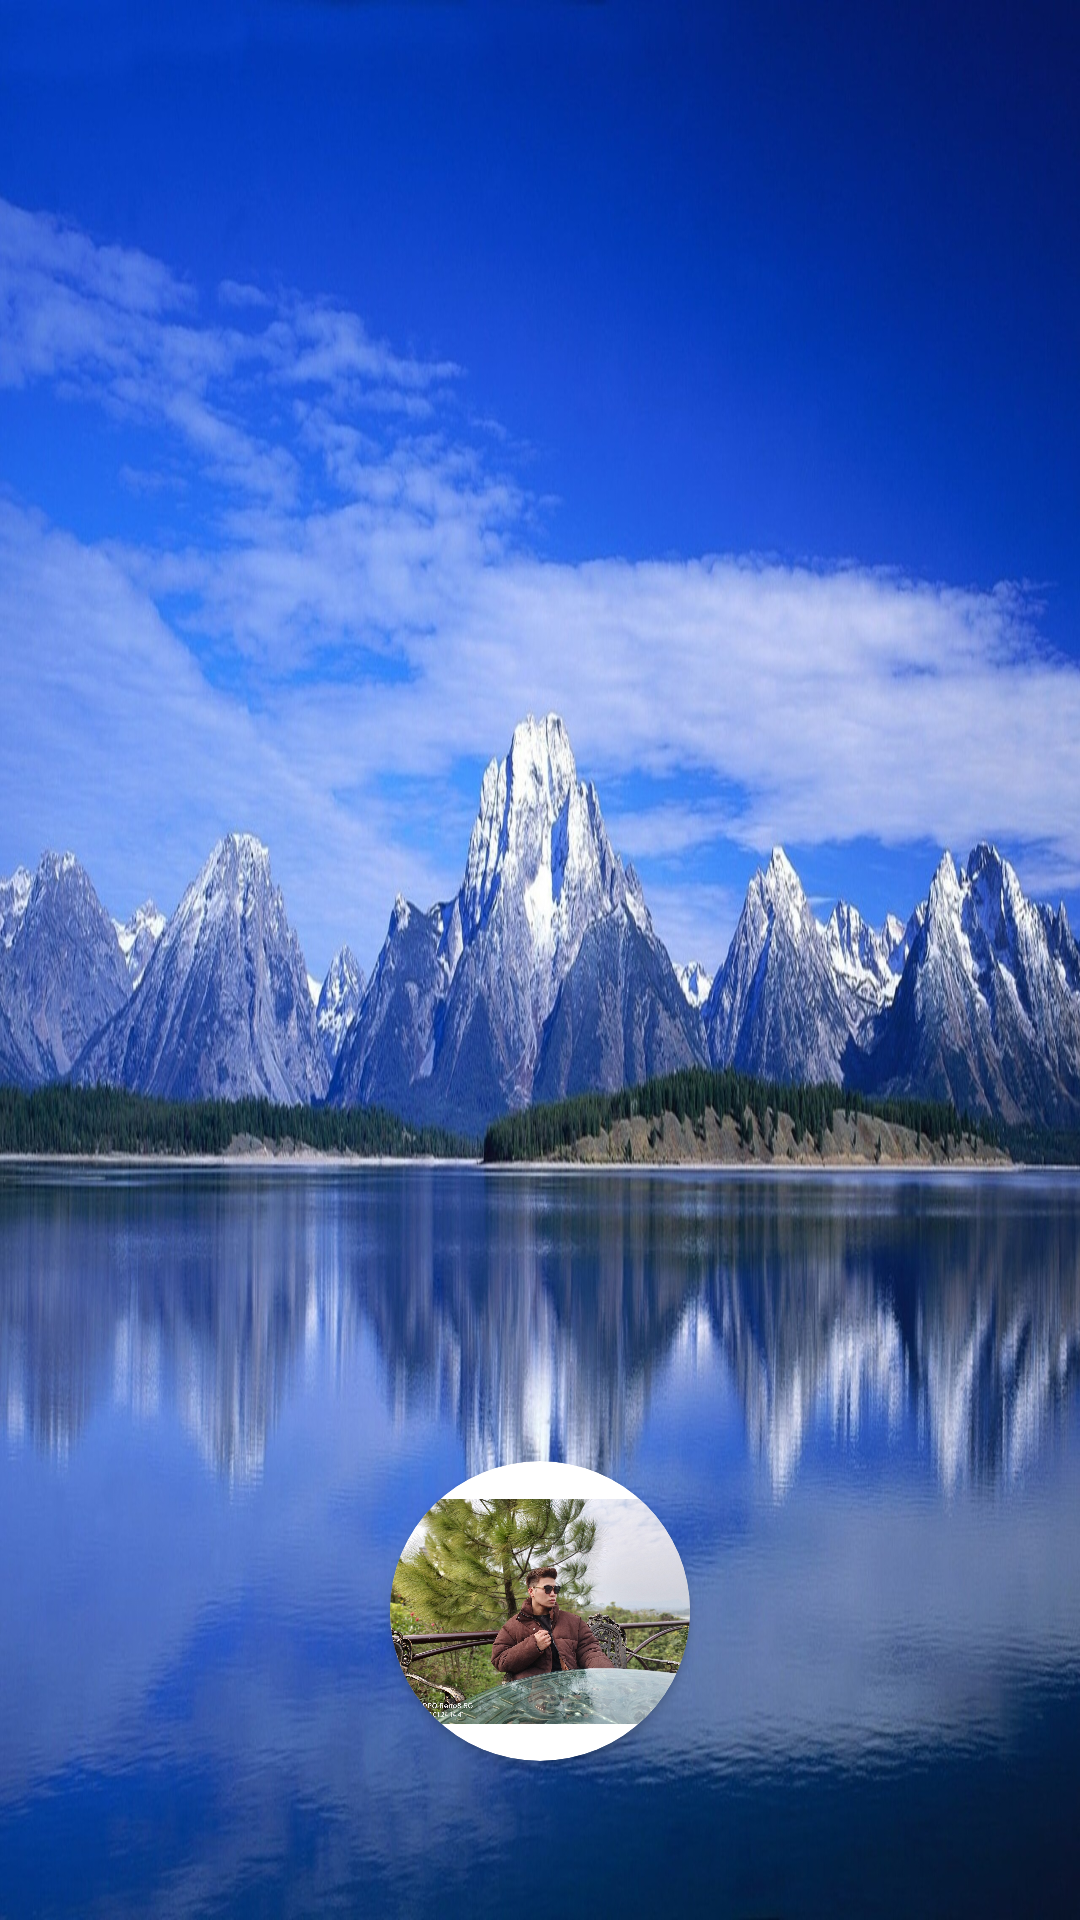

Point at icon controls on the screen. Image size 1080w x 1920h, points as (x=x, y=y).
avt: (x=540, y=1611)
